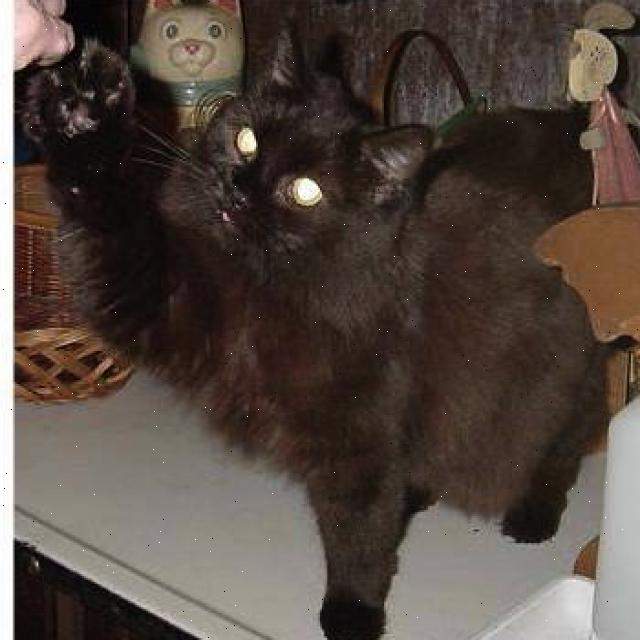Cat: (149, 27, 439, 311)
